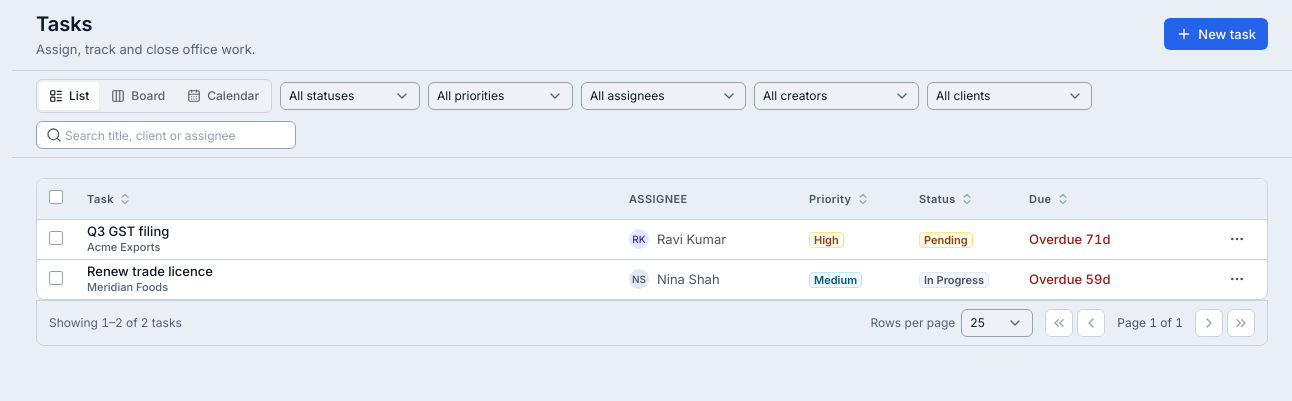
Test: TaskList — filters do not crash the page › changing the priority filter neither throws nor logs
Expected: the text "Q3 GST filing" is shown, [87,223,169,239]
Select "High" in the dropdown named "Filter by priority" at [500, 96], box [428,82,573,110]
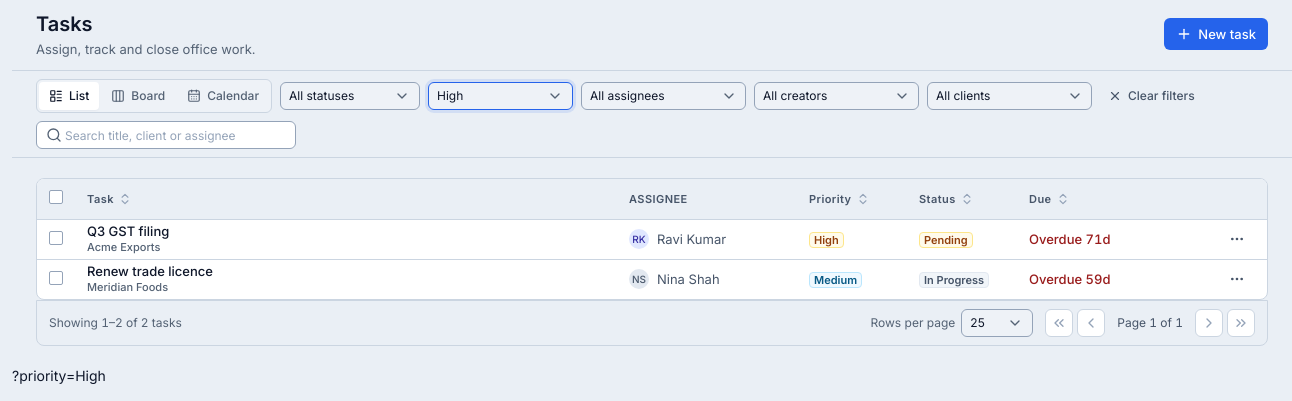
Now the text with test id "query-string" shows "priority=High", box [12,367,106,384]
